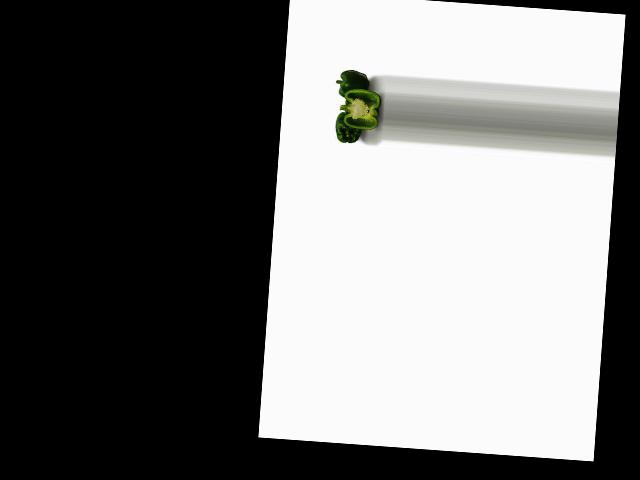bell_pepper: (331, 108, 366, 147)
